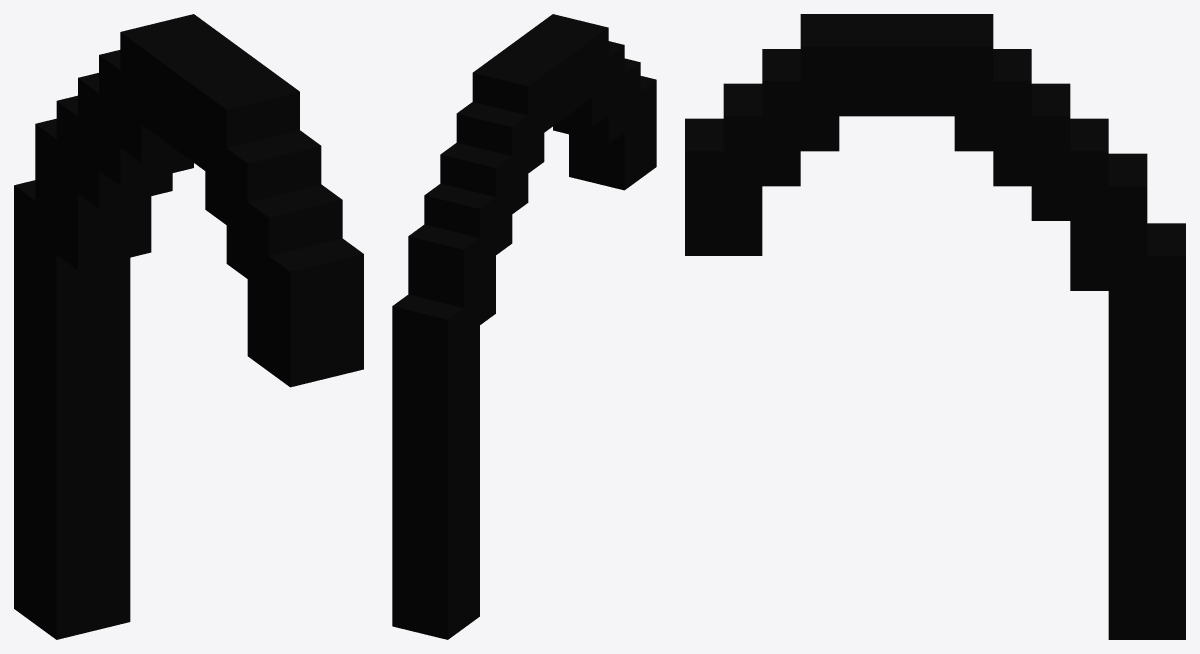
File: vandhane.obj
The picture shows the model from 3 angles, left to right: view 1: azimuth 30°, elevation 25°; view 2: azimuth 150°, elevation 25°; view 3: azimuth 270°, elevation 25°; orthographic projection. The views are drawn at different scales.
Bounding box in the file's own units: 0.2 × 1.7 × 1.3.
